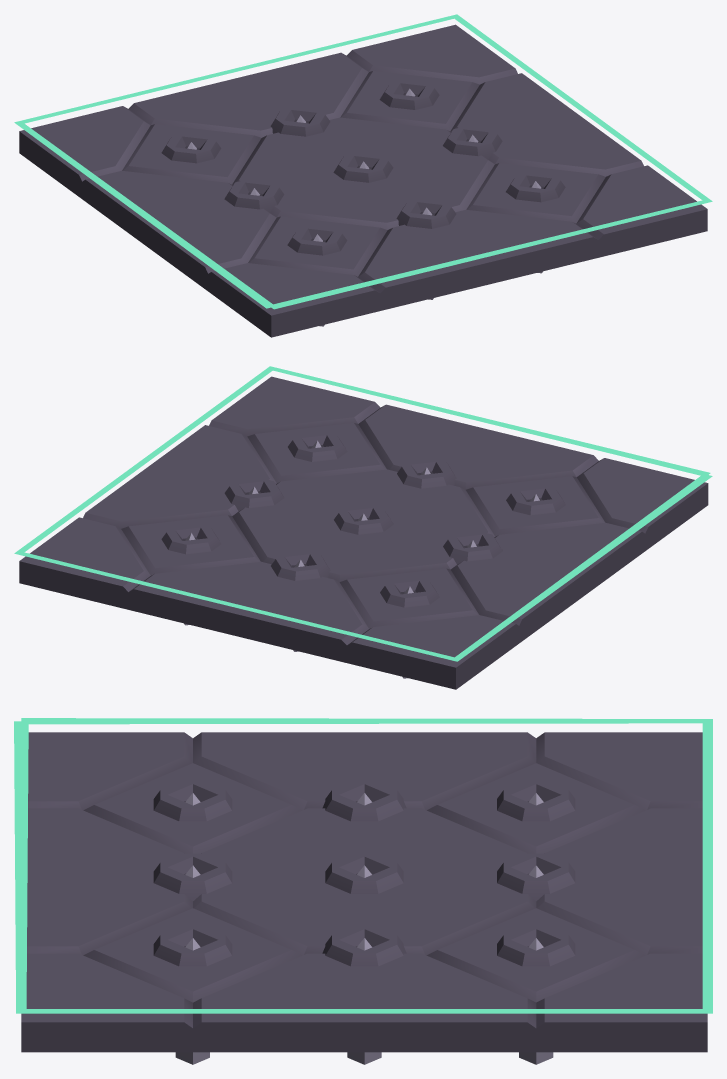
Rendered from trap.fbx.
The picture shows the model from 3 angles, top to bottom: view 1: azimuth 30°, elevation 25°; view 2: azimuth 150°, elevation 25°; view 3: azimuth 270°, elevation 25°; orthographic projection. The views are drawn at different scales.
Parts seen in each view (by area): view 1: trap; view 2: trap; view 3: trap, Spikes.
Part boxes in pixels (x1=…): trap: x1=14, y1=14, x2=712, y2=337; trap: x1=14, y1=366, x2=712, y2=689; trap: x1=14, y1=718, x2=712, y2=1052; Spikes: x1=175, y1=793, x2=553, y2=1064.
Size of the model in its own units: 2.85 by 0.54 by 2.85.
